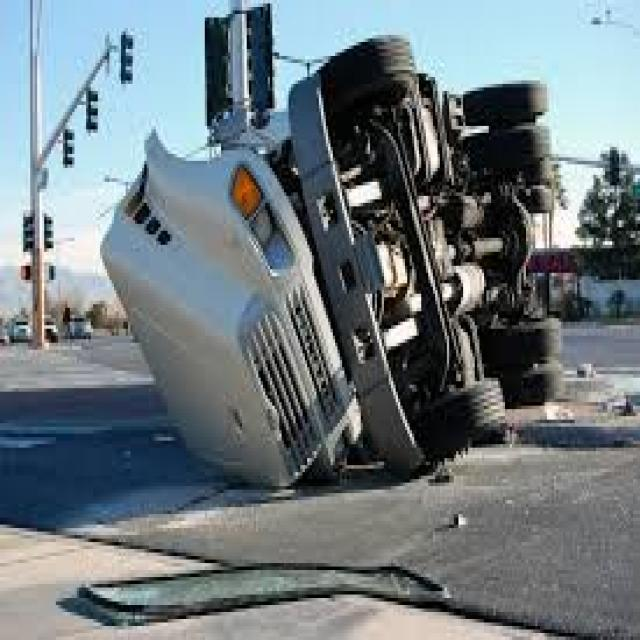accident: (83, 35, 568, 506)
